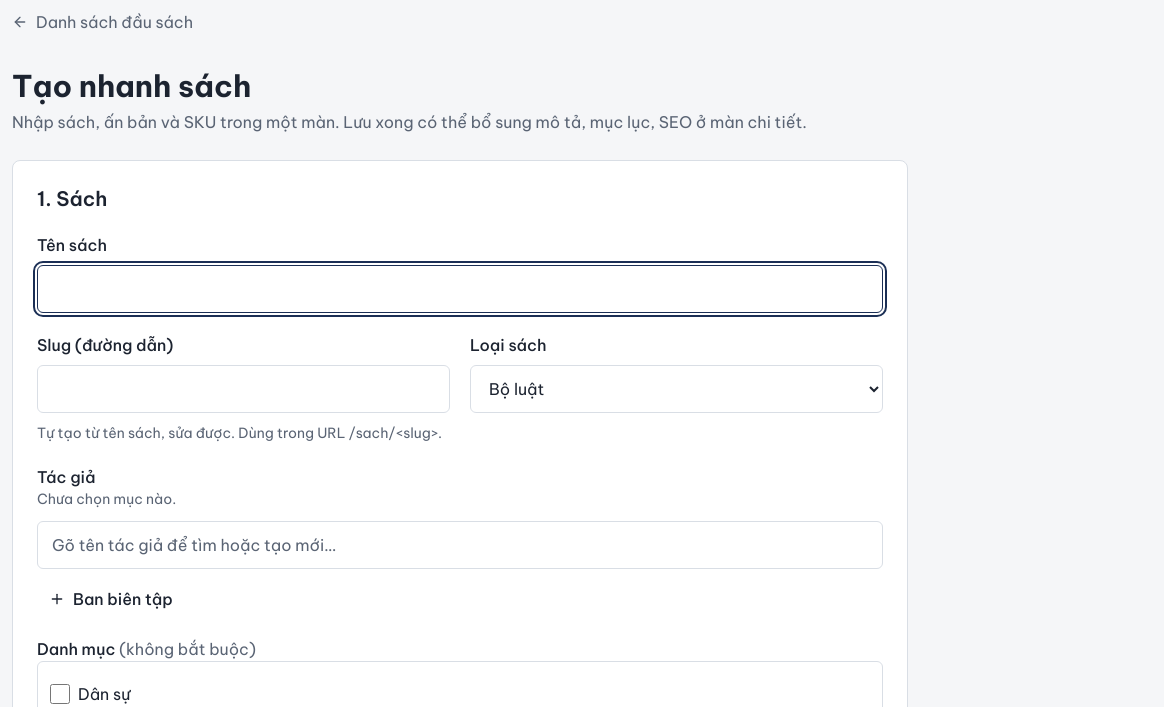
it: QuickBookCreate › tạo nhanh tác giả mới ngay trong ô chọn
Type "Nguyễn Văn Mới" into the search field named "Tìm tác giả". click: [460, 545]
box: top-left (37, 521), bottom-right (883, 569)
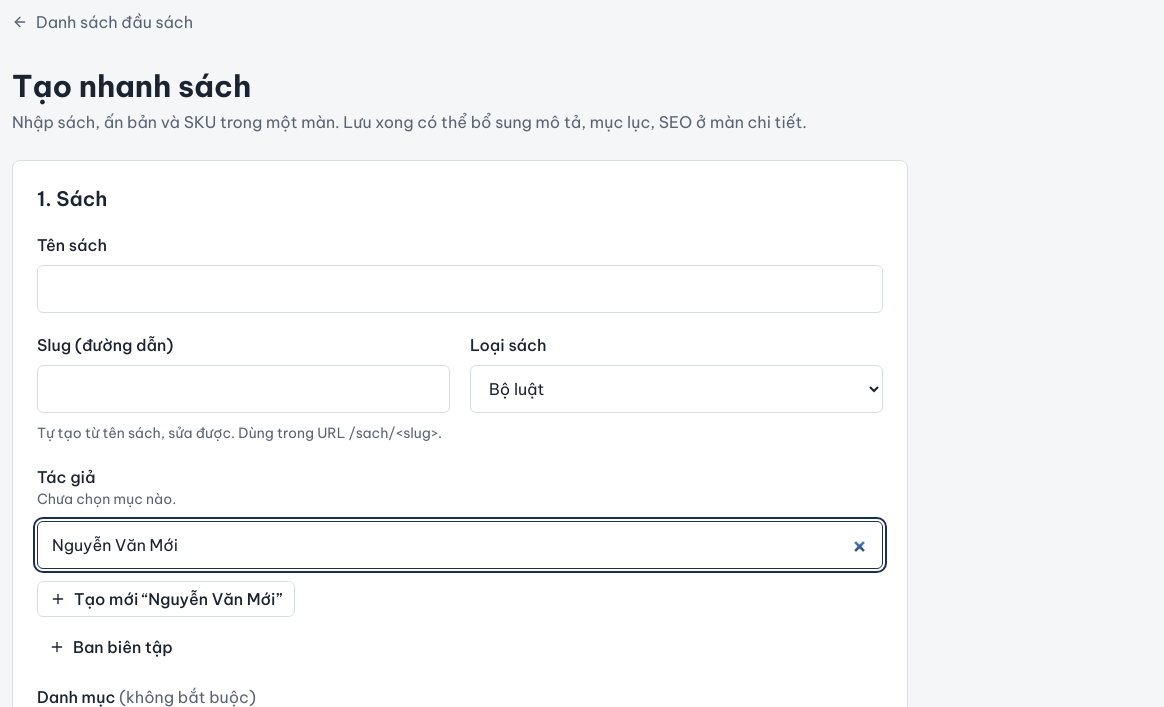
Click the button "Tạo mới “Nguyễn Văn Mới”". click: [166, 599]
box: top-left (37, 581), bottom-right (295, 617)
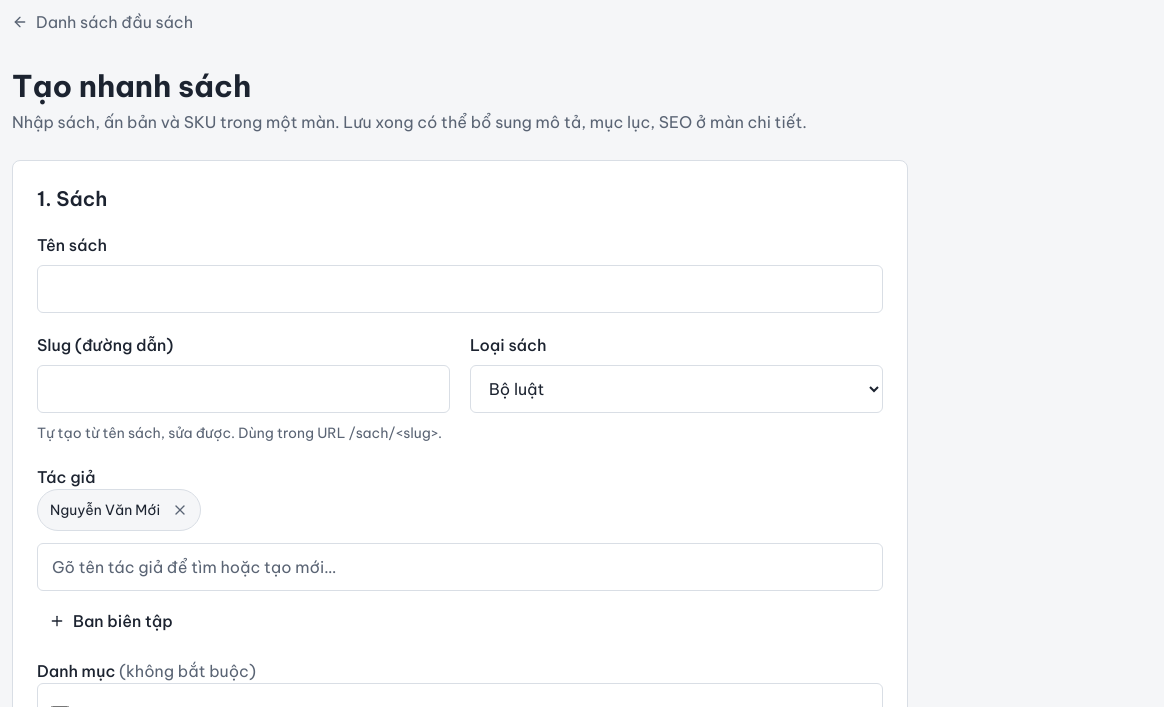
Now the button named "Bỏ Nguyễn Văn Mới" is shown, box top-left (164, 494), bottom-right (196, 526)
